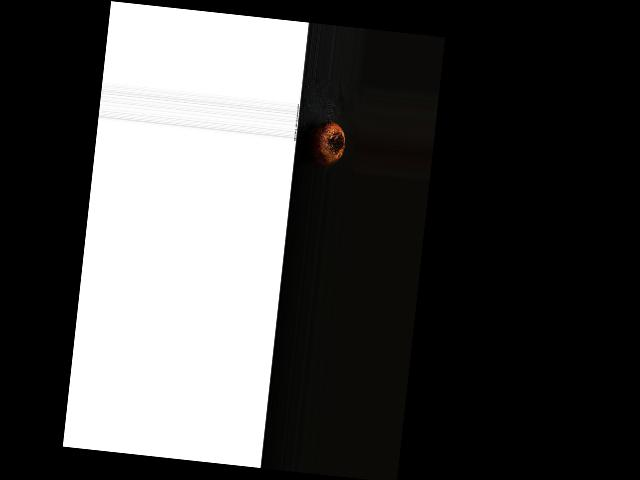beet: (303, 119, 346, 169)
